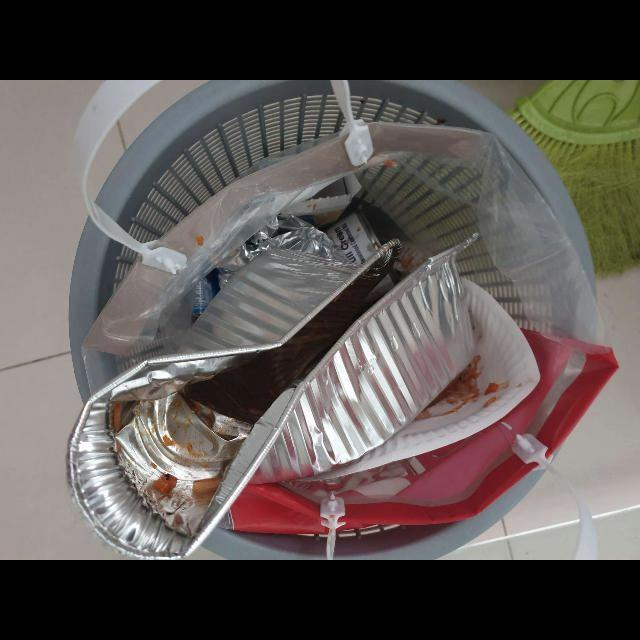aluminum: (65, 231, 481, 560), (215, 214, 351, 290), (322, 210, 383, 264)
cardboard: (299, 278, 541, 481), (277, 172, 363, 228)
paper: (230, 329, 619, 534)
